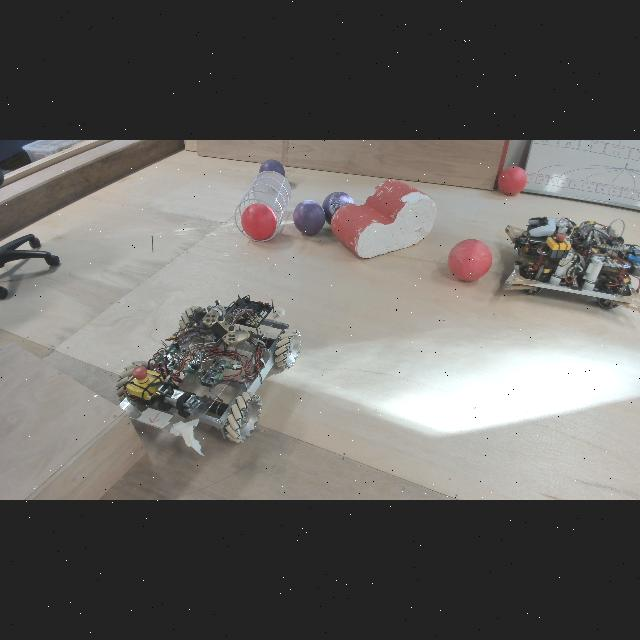P: (292, 200, 326, 236), (322, 192, 356, 226), (259, 160, 285, 182)
R: (448, 238, 492, 282), (241, 203, 277, 240), (498, 166, 528, 196)
